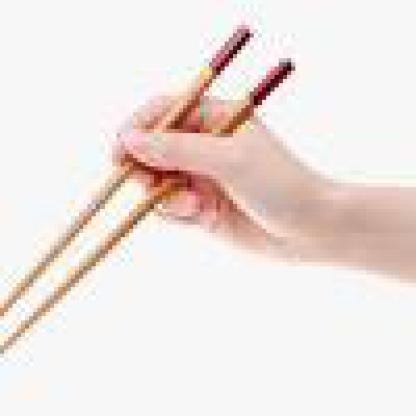chopstick: (4, 54, 291, 345), (4, 25, 250, 312)
